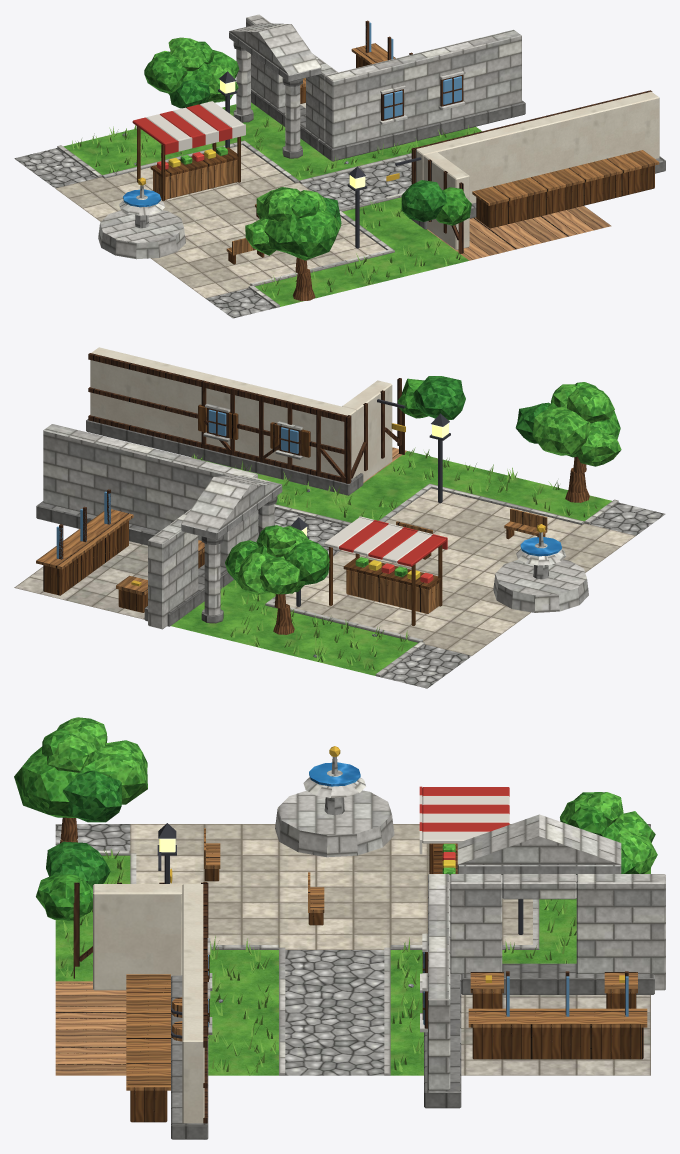
The model's file is chunk_2_2.glb.
3 views of the same model, one above another, from view 1: azimuth 30°, elevation 25°; view 2: azimuth 150°, elevation 25°; view 3: azimuth 270°, elevation 25° (orthographic). The views are drawn at different scales.
Visible parts, largest first — view 1: chunk_2_2; view 2: chunk_2_2; view 3: chunk_2_2.
Boxes of the visible parts, bbox=[...] form: chunk_2_2: bbox=[14, 14, 665, 318]; chunk_2_2: bbox=[14, 347, 665, 688]; chunk_2_2: bbox=[14, 717, 665, 1139].
Bounding box in the file's own units: 21.21 × 4.36 × 17.52.
Materials: 28 (19 with a texture image).
